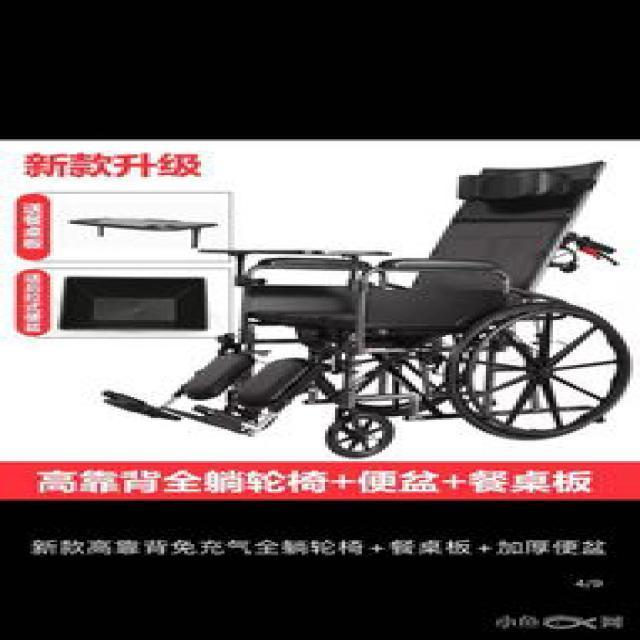wheelchairs: (105, 166, 624, 456)
